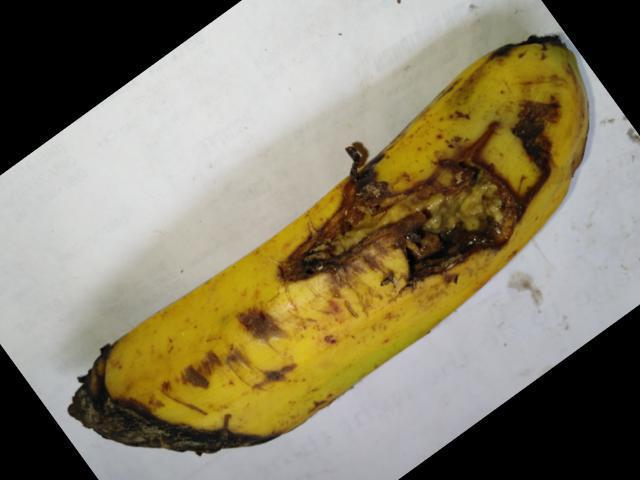rotten: (274, 94, 593, 323), (40, 314, 317, 479)
